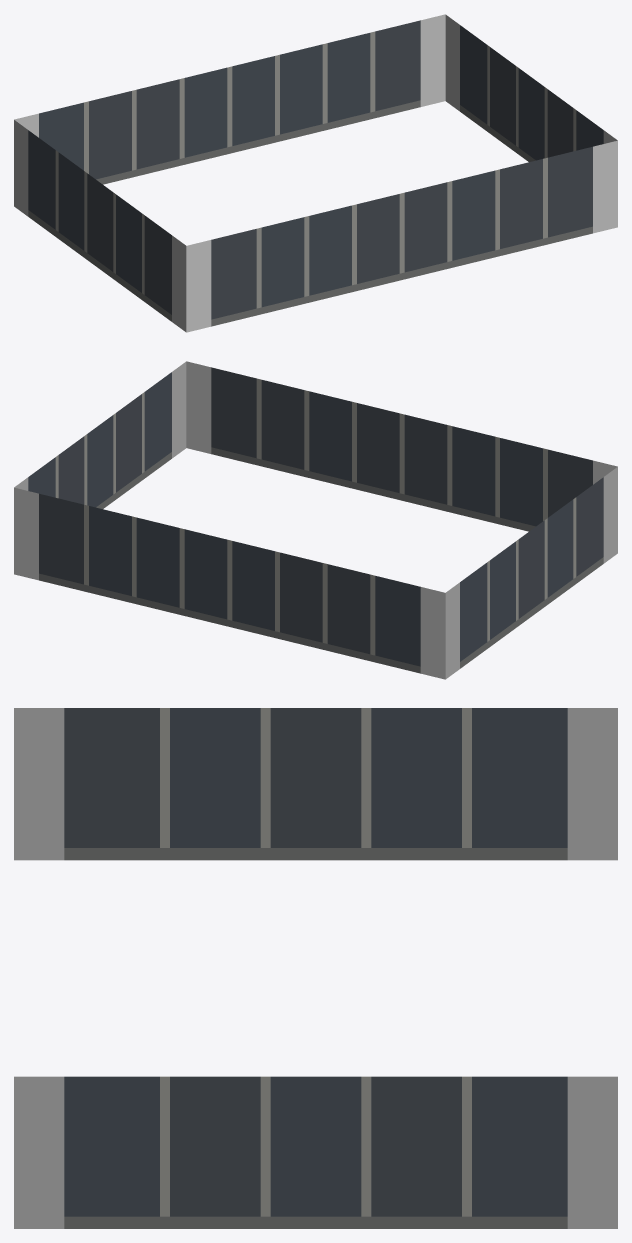
File: TB_CITY_Skysc_A_BodyA_Gray.FBX
3 views of the same model, one above another, from view 1: azimuth 30°, elevation 25°; view 2: azimuth 150°, elevation 25°; view 3: azimuth 270°, elevation 25° (orthographic). The views are drawn at different scales.
Visible parts, largest first — view 1: TB_CITY_Skysc_A_BodyA_Gray; view 2: TB_CITY_Skysc_A_BodyA_Gray; view 3: TB_CITY_Skysc_A_BodyA_Gray.
Part boxes in pixels (bbox=[...]): TB_CITY_Skysc_A_BodyA_Gray: bbox=[14, 14, 617, 332]; TB_CITY_Skysc_A_BodyA_Gray: bbox=[14, 361, 617, 679]; TB_CITY_Skysc_A_BodyA_Gray: bbox=[14, 708, 617, 1228].
Size of the model in its own units: 26 by 5 by 18.
